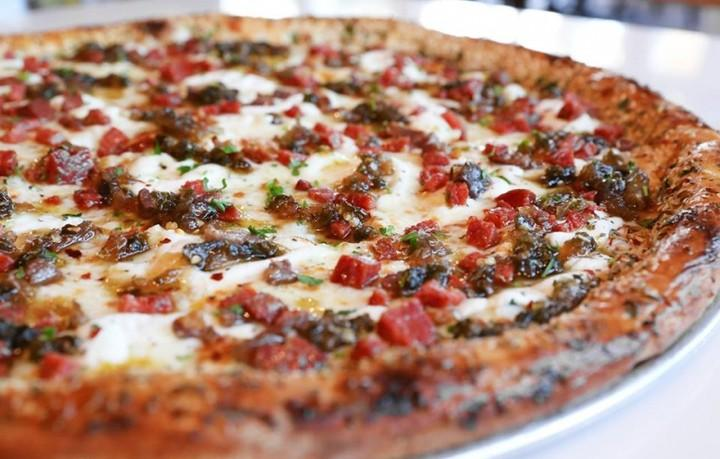Pizza: (5, 19, 720, 459)
Tomatoes: (375, 302, 439, 356), (250, 330, 320, 379), (465, 200, 516, 251), (216, 288, 284, 320), (419, 156, 467, 201), (336, 250, 379, 295), (30, 143, 83, 177), (235, 136, 291, 163), (5, 85, 52, 117), (99, 125, 153, 152), (499, 93, 540, 128), (490, 186, 537, 215), (339, 170, 374, 203), (156, 55, 203, 79), (552, 132, 584, 166), (379, 53, 407, 91), (348, 122, 375, 146), (380, 136, 403, 152)
